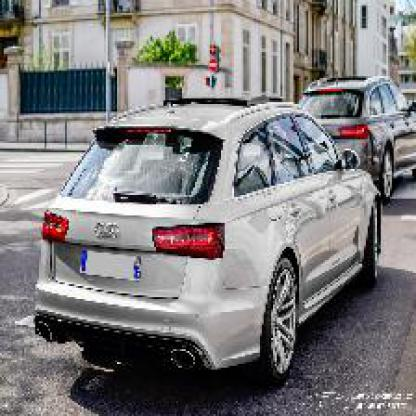not_emergency: (33, 87, 390, 381)
